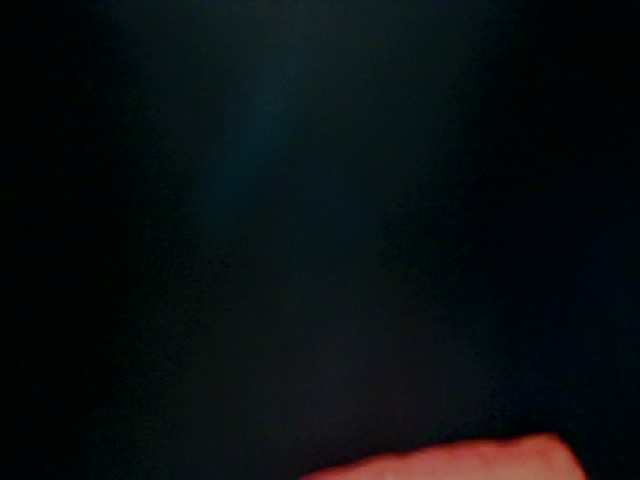KHSLJ: (1, 271, 300, 479)
